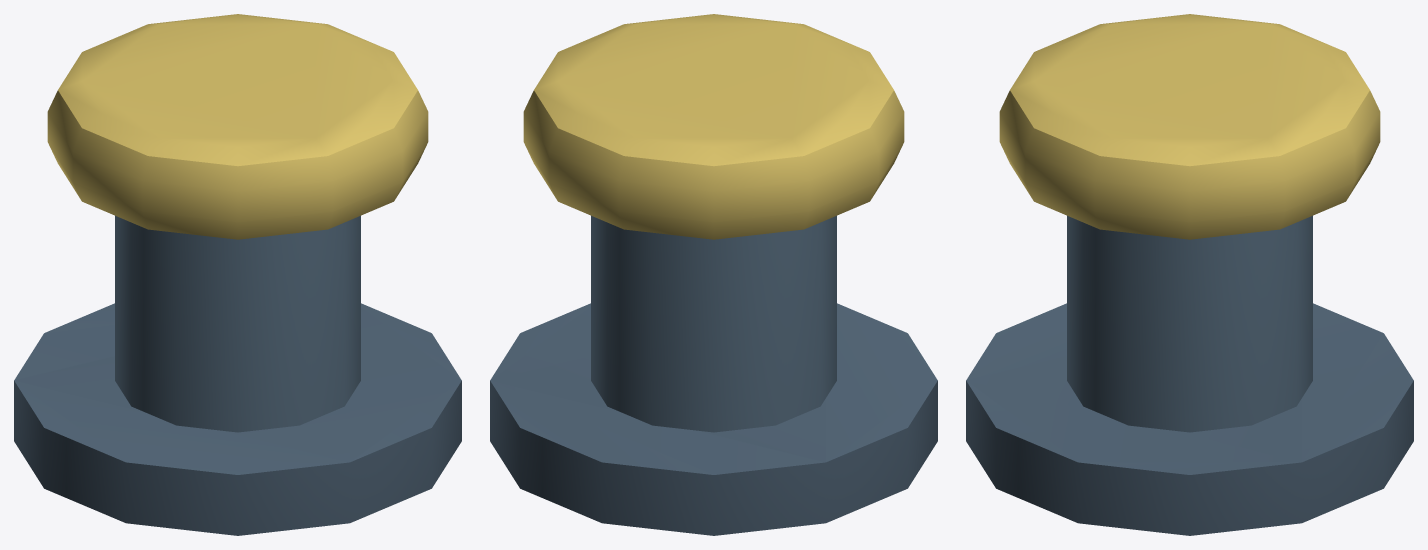
Rendered from mooring_bollard.glb.
3 views of the same model, side by side, from view 1: azimuth 30°, elevation 25°; view 2: azimuth 150°, elevation 25°; view 3: azimuth 270°, elevation 25° (orthographic).
Parts seen in each view (by area): view 1: mooring_bollard; view 2: mooring_bollard; view 3: mooring_bollard.
Boxes of the visible parts, x1,y1,x2,y2 form: mooring_bollard: (14,14,461,535); mooring_bollard: (490,14,937,535); mooring_bollard: (966,14,1413,535).
Bounding box in the file's own units: 0.4 × 0.355 × 0.4.
